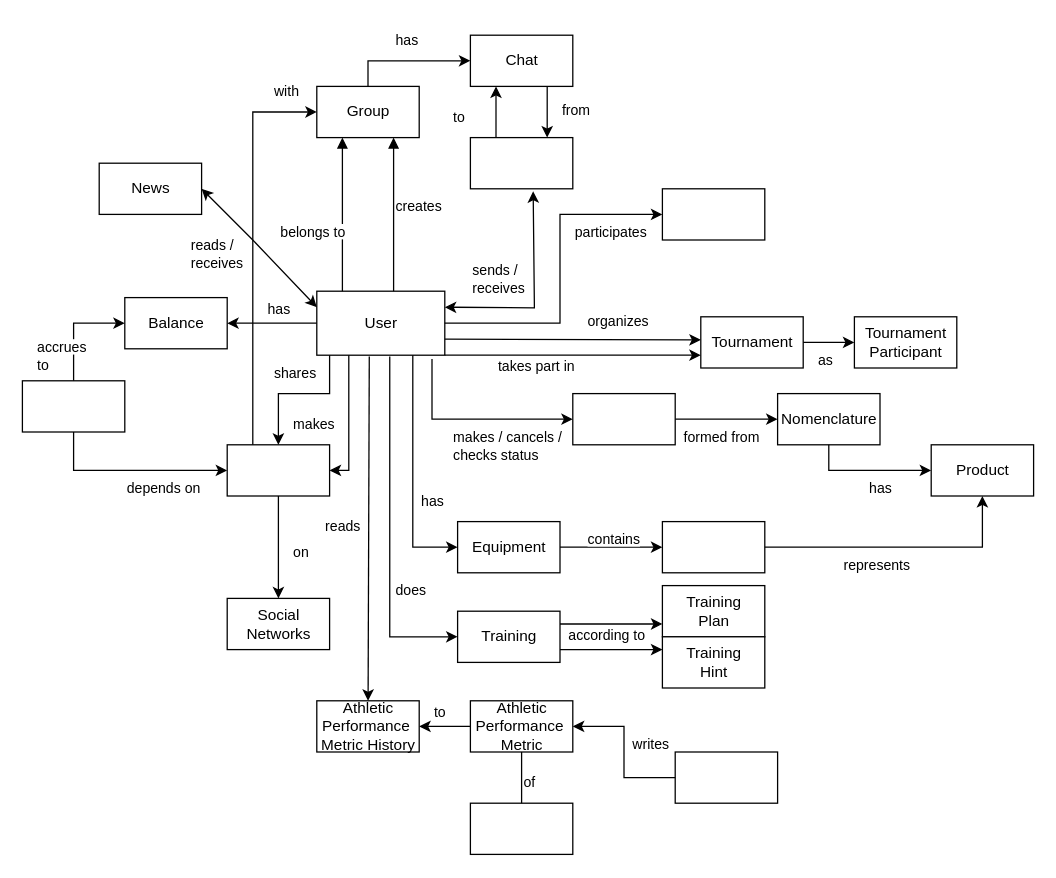
Some shapes in this 1056 by 878 pixel diagram are drawn without their labels. The shapes that lost their labels are listed below. From the top down, each one's centre as x and y in pixels, then its label:
(521,162): Message
(713,214): Loyalty Program
(73,406): Bonus
(623,418): Order
(278,470): Achievement
(713,546): Equipment Item
(726,777): Sensor
(521,828): Athletic Performance Metric Type
